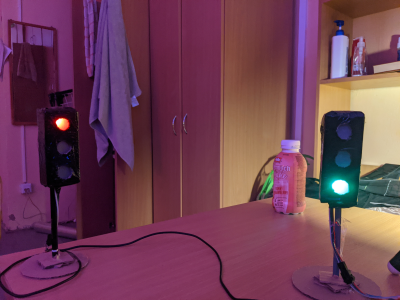trafficlight_green: (323, 113, 361, 204)
trafficlight_red: (46, 109, 79, 184)
